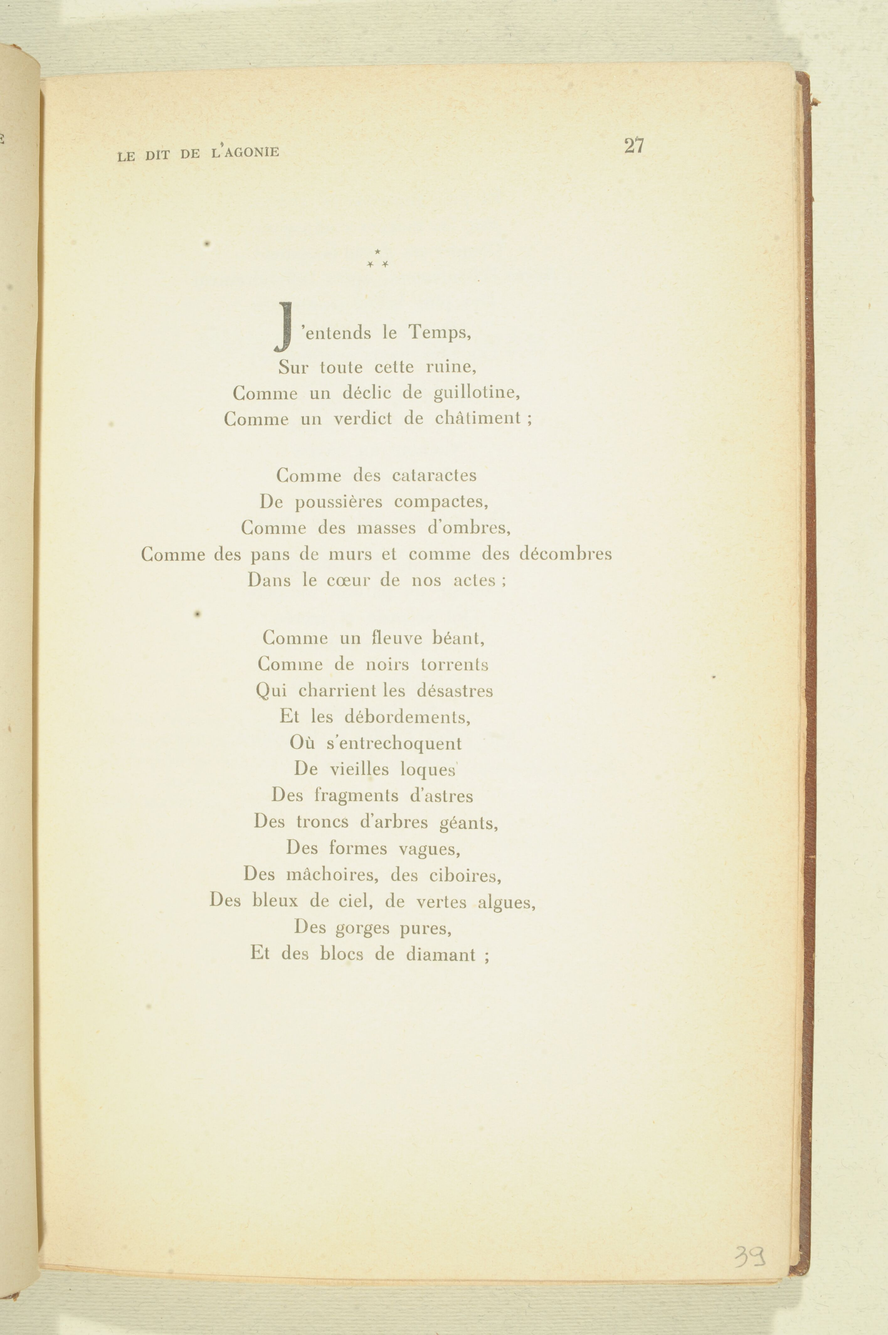InterligneAsterisque: (358, 245, 403, 277)
N°Page: (614, 132, 660, 154)
TitreCourant: (112, 132, 293, 169)
Vers: (195, 881, 543, 916), (133, 542, 617, 564), (265, 304, 497, 349), (212, 407, 547, 435), (234, 512, 504, 545), (239, 808, 535, 838), (226, 380, 541, 406), (244, 674, 510, 701), (261, 701, 473, 734), (256, 649, 501, 677), (231, 865, 515, 887), (260, 627, 500, 653), (230, 946, 509, 968), (255, 489, 495, 513), (244, 570, 512, 590), (273, 462, 491, 486), (277, 838, 470, 864), (261, 355, 493, 376), (290, 760, 471, 786), (267, 784, 495, 804), (285, 917, 462, 942), (288, 737, 474, 755)
